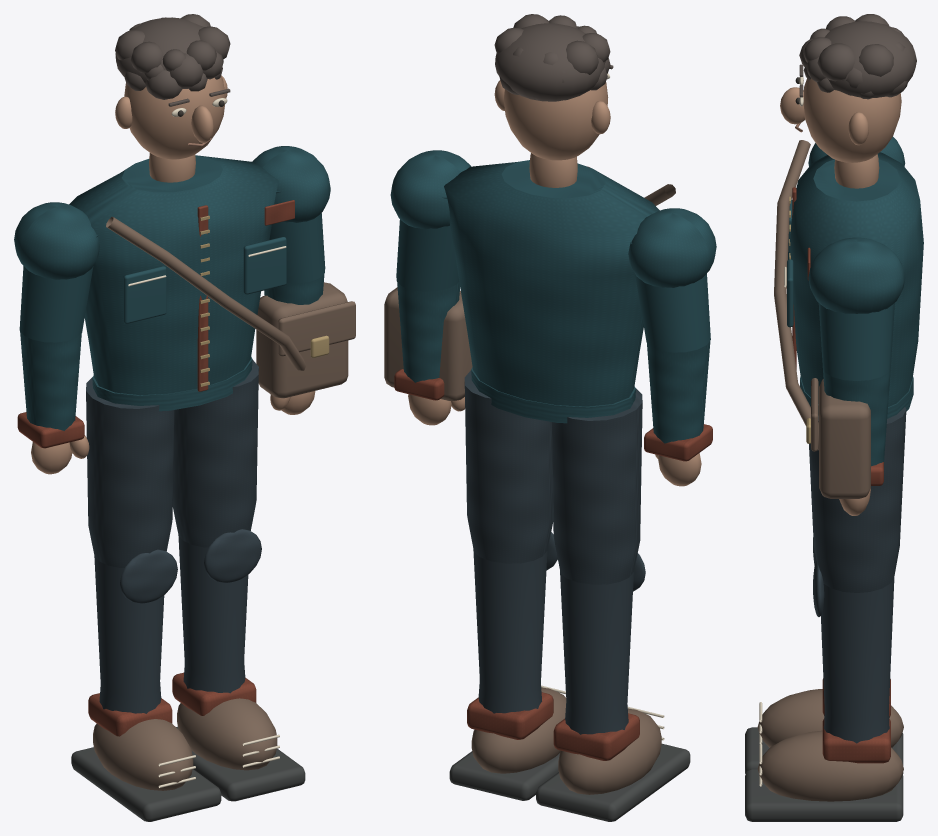
File: A001_harbor_runner.glb
3 renders of one model, left to right at view 1: azimuth 30°, elevation 25°; view 2: azimuth 150°, elevation 25°; view 3: azimuth 270°, elevation 25°, orthographic. The views are drawn at different scales.
Parts seen in each view (by area): view 1: HipsPivot.001 SL runner faded teal canvas, LeftHipPivot.001 SL runner charcoal work denim, RightHipPivot.001 SL runner charcoal work denim, HipsPivot.001 SL runner aged brown leather, RightKneePivot.001 SL runner charcoal work denim, LeftKneePivot.001 SL runner charcoal work denim, LeftShoulderPivot.001 SL runner faded teal canvas, HipsPivot.001 SL runner dark curly hair, HipsPivot.001 SL runner warm brown skin, RightShoulderPivot.001 SL runner faded teal canvas, LeftKneePivot.001 SL runner aged brown leather, RightKneePivot.001 SL runner aged brown leather (+11 smaller); view 2: HipsPivot.001 SL runner faded teal canvas, LeftHipPivot.001 SL runner charcoal work denim, RightHipPivot.001 SL runner charcoal work denim, LeftKneePivot.001 SL runner charcoal work denim, RightKneePivot.001 SL runner charcoal work denim, LeftShoulderPivot.001 SL runner faded teal canvas, HipsPivot.001 SL runner dark curly hair, RightShoulderPivot.001 SL runner faded teal canvas, HipsPivot.001 SL runner warm brown skin, LeftElbowPivot.001 SL runner faded teal canvas, HipsPivot.001 SL runner aged brown leather, LeftKneePivot.001 SL runner rubber soles (+10 smaller); view 3: HipsPivot.001 SL runner faded teal canvas, RightShoulderPivot.001 SL runner faded teal canvas, RightKneePivot.001 SL runner charcoal work denim, RightHipPivot.001 SL runner charcoal work denim, HipsPivot.001 SL runner aged brown leather, HipsPivot.001 SL runner dark curly hair, HipsPivot.001 SL runner warm brown skin, RightKneePivot.001 SL runner aged brown leather, RightKneePivot.001 SL runner rubber soles, LeftKneePivot.001 SL runner aged brown leather, RightElbowPivot.001 SL runner faded teal canvas, RightKneePivot.001 SL runner rust lining (+4 smaller).
Part boxes in pixels (x1=…): HipsPivot.001 SL runner faded teal canvas: x1=69, y1=155, x2=286, y2=411; LeftHipPivot.001 SL runner charcoal work denim: x1=86, y1=377, x2=174, y2=567; RightHipPivot.001 SL runner charcoal work denim: x1=172, y1=360, x2=258, y2=547; HipsPivot.001 SL runner aged brown leather: x1=106, y1=216, x2=355, y2=398; RightKneePivot.001 SL runner charcoal work denim: x1=178, y1=529, x2=261, y2=693; LeftKneePivot.001 SL runner charcoal work denim: x1=94, y1=549, x2=177, y2=713; LeftShoulderPivot.001 SL runner faded teal canvas: x1=14, y1=202, x2=99, y2=342; HipsPivot.001 SL runner dark curly hair: x1=115, y1=14, x2=230, y2=106; HipsPivot.001 SL runner warm brown skin: x1=115, y1=75, x2=227, y2=182; RightShoulderPivot.001 SL runner faded teal canvas: x1=252, y1=146, x2=330, y2=283; LeftKneePivot.001 SL runner aged brown leather: x1=93, y1=719, x2=193, y2=790; RightKneePivot.001 SL runner aged brown leather: x1=177, y1=698, x2=277, y2=770; HipsPivot.001 SL runner faded teal canvas: x1=444, y1=160, x2=659, y2=423; LeftHipPivot.001 SL runner charcoal work denim: x1=551, y1=388, x2=642, y2=584; RightHipPivot.001 SL runner charcoal work denim: x1=464, y1=370, x2=553, y2=563; LeftKneePivot.001 SL runner charcoal work denim: x1=560, y1=553, x2=645, y2=734; RightKneePivot.001 SL runner charcoal work denim: x1=473, y1=532, x2=557, y2=713; LeftShoulderPivot.001 SL runner faded teal canvas: x1=628, y1=208, x2=716, y2=352; HipsPivot.001 SL runner dark curly hair: x1=494, y1=14, x2=613, y2=101; RightShoulderPivot.001 SL runner faded teal canvas: x1=390, y1=150, x2=470, y2=291; HipsPivot.001 SL runner warm brown skin: x1=494, y1=80, x2=610, y2=187; LeftElbowPivot.001 SL runner faded teal canvas: x1=647, y1=341, x2=710, y2=443; HipsPivot.001 SL runner aged brown leather: x1=384, y1=184, x2=675, y2=401; LeftKneePivot.001 SL runner rubber soles: x1=536, y1=743, x2=690, y2=821; HipsPivot.001 SL runner faded teal canvas: x1=787, y1=152, x2=923, y2=418; RightShoulderPivot.001 SL runner faded teal canvas: x1=808, y1=237, x2=905, y2=380; RightKneePivot.001 SL runner charcoal work denim: x1=813, y1=561, x2=894, y2=743; RightHipPivot.001 SL runner charcoal work denim: x1=809, y1=407, x2=906, y2=592; HipsPivot.001 SL runner aged brown leather: x1=774, y1=140, x2=870, y2=498; HipsPivot.001 SL runner dark curly hair: x1=799, y1=14, x2=916, y2=99; HipsPivot.001 SL runner warm brown skin: x1=780, y1=78, x2=901, y2=188; RightKneePivot.001 SL runner aged brown leather: x1=757, y1=730, x2=903, y2=801; RightKneePivot.001 SL runner rubber soles: x1=745, y1=769, x2=903, y2=821; LeftKneePivot.001 SL runner aged brown leather: x1=757, y1=689, x2=903, y2=747; RightElbowPivot.001 SL runner faded teal canvas: x1=823, y1=368, x2=890, y2=466; RightKneePivot.001 SL runner rust lining: x1=822, y1=718, x2=890, y2=763.
Bounding box in the file's own units: 0.784 × 1.76 × 0.3785.
Materials: 11 (3 with a texture image).
